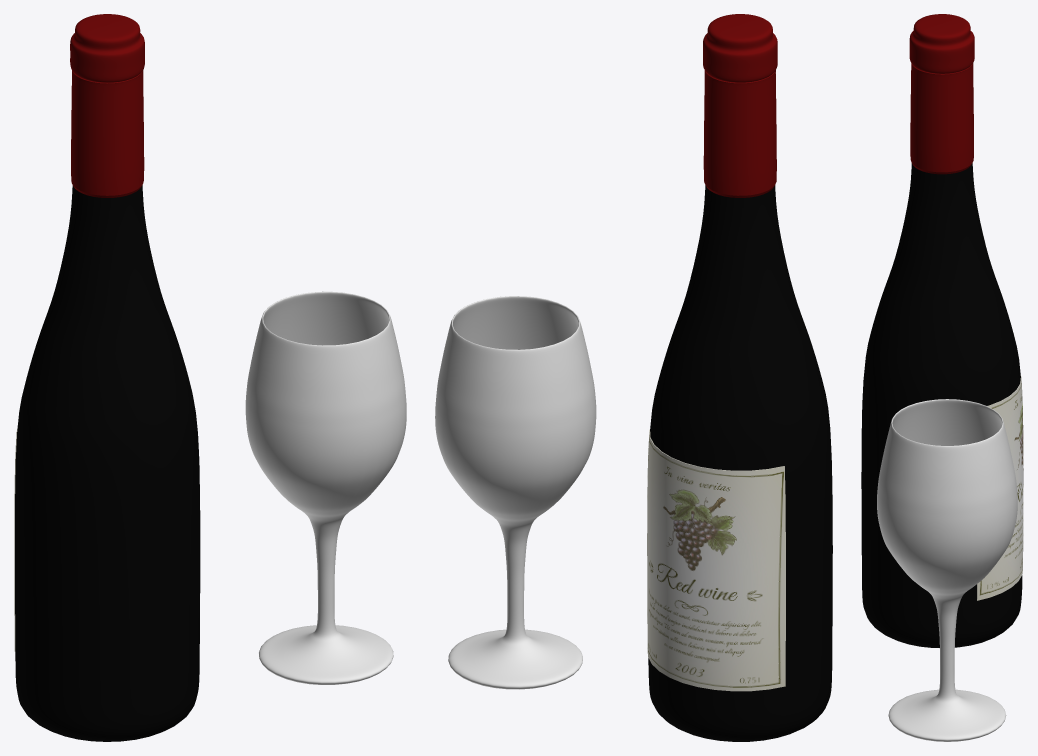
File: maya2sketchfab.fbx
3 renders of one model, left to right at view 1: azimuth 30°, elevation 25°; view 2: azimuth 150°, elevation 25°; view 3: azimuth 270°, elevation 25°, orthographic. The views are drawn at different scales.
Visible parts, largest first — view 1: pasted__polySurface1, polySurface3, pasted__polySurface2; view 2: pasted__polySurface1, polySurface3, pasted__pasted__polySurface2, pasted__polySurface2; view 3: pasted__polySurface1, polySurface3, pasted__polySurface2, pasted__pasted__polySurface2.
Part boxes in pixels (x1,y1,x2,y2): pasted__polySurface1: (15, 185, 200, 741); polySurface3: (245, 291, 406, 684); pasted__polySurface2: (70, 14, 144, 197); pasted__polySurface1: (648, 185, 832, 741); polySurface3: (435, 296, 596, 689); pasted__pasted__polySurface2: (647, 429, 785, 691); pasted__polySurface2: (703, 14, 777, 197); pasted__polySurface1: (861, 163, 1022, 647); polySurface3: (877, 399, 1017, 741); pasted__polySurface2: (909, 14, 974, 174); pasted__pasted__polySurface2: (977, 375, 1023, 600).
Bounding box in the file's own units: 11.23 × 19.94 × 4.86.
5 materials, 3 textured.
